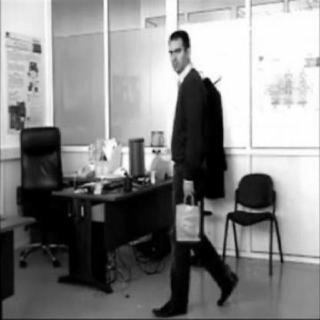other: (173, 200, 203, 246)
